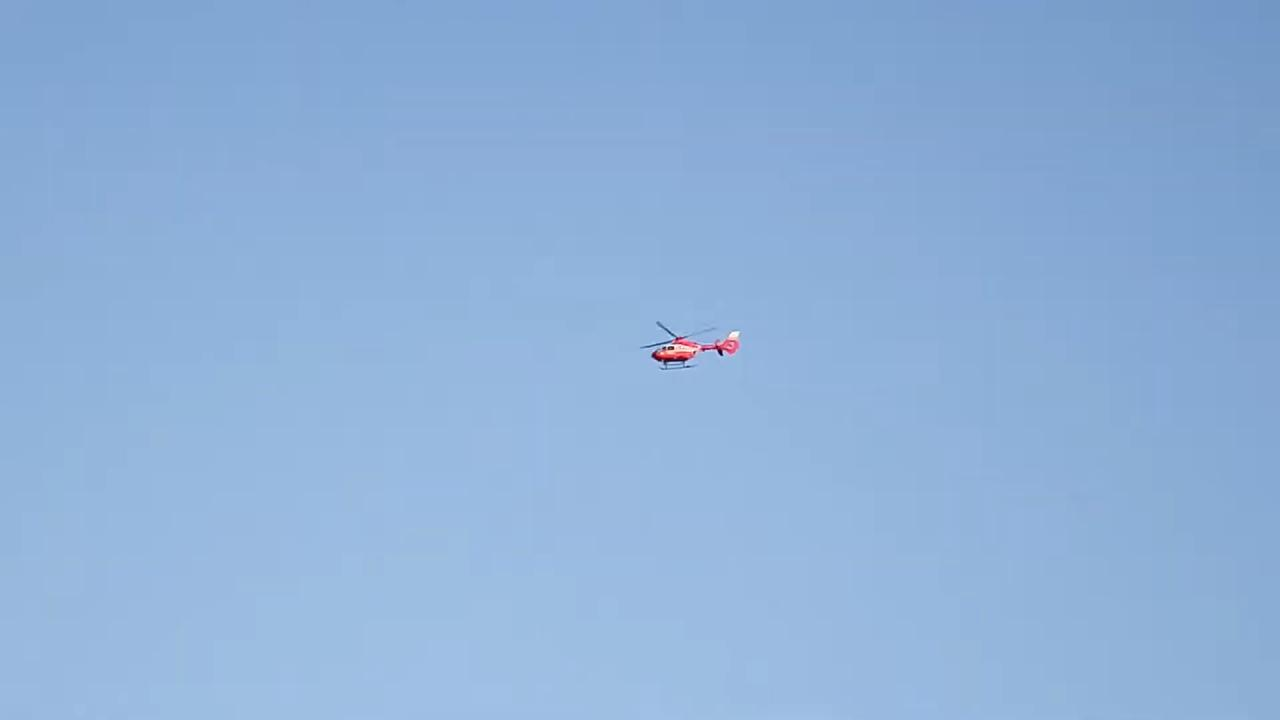Helicopter: (630, 308, 754, 378)
